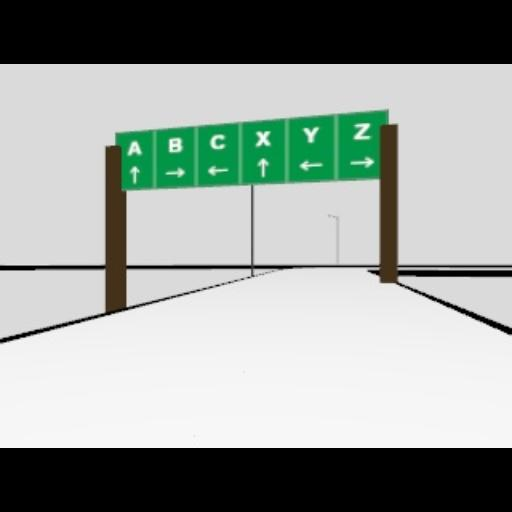A: (125, 140, 145, 158)
B: (166, 136, 186, 154)
C: (210, 133, 226, 151)
Left: (297, 160, 323, 172), (207, 164, 229, 176)
Right: (349, 156, 375, 168), (163, 166, 185, 178)
Straight: (128, 165, 142, 185), (258, 156, 268, 178)
X: (255, 130, 273, 146)
Y: (300, 125, 320, 145)
Z: (352, 122, 372, 142)
